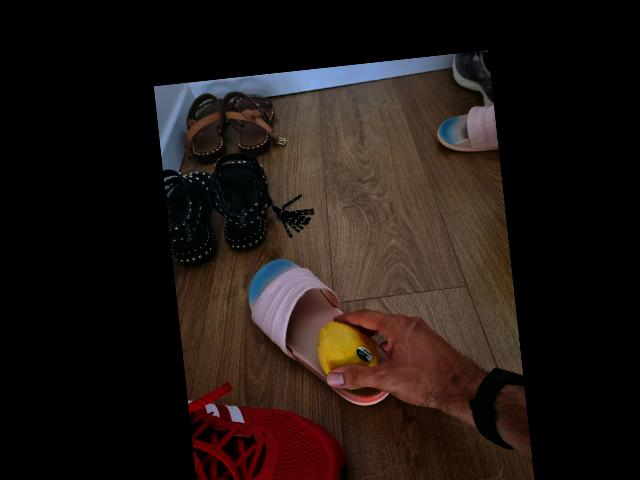lemon: (319, 317, 378, 390)
